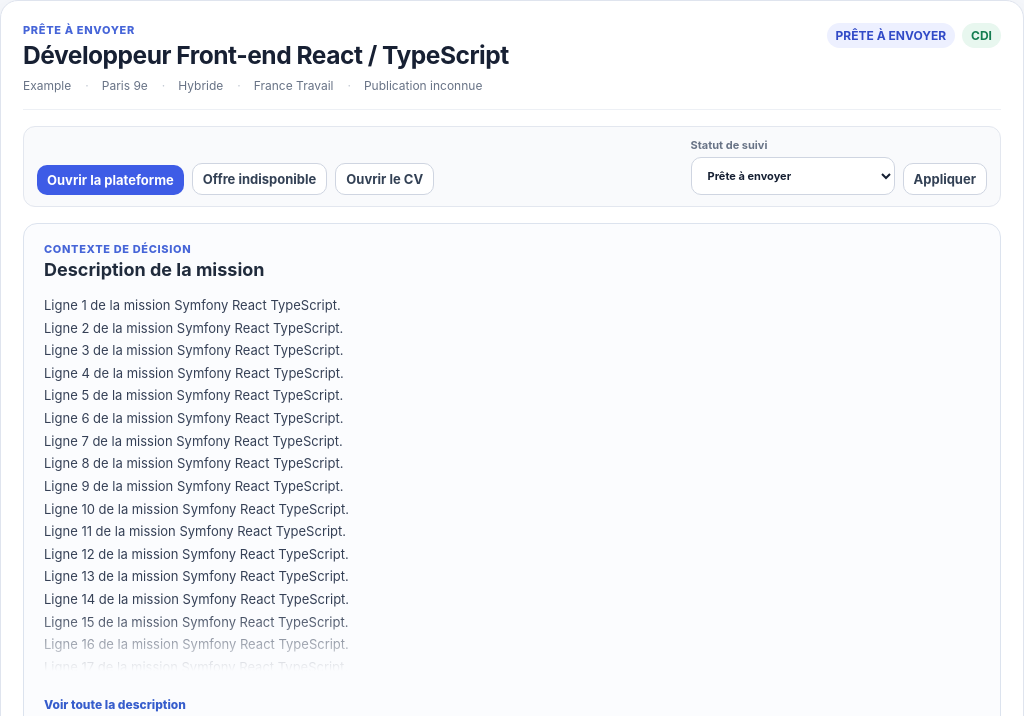
ReviewQueueApplicationCard › keeps a long mission compact until the user expands it
Click the button "Voir toute la description" at (115, 704), box [44,697,186,712]
(page scrolled)
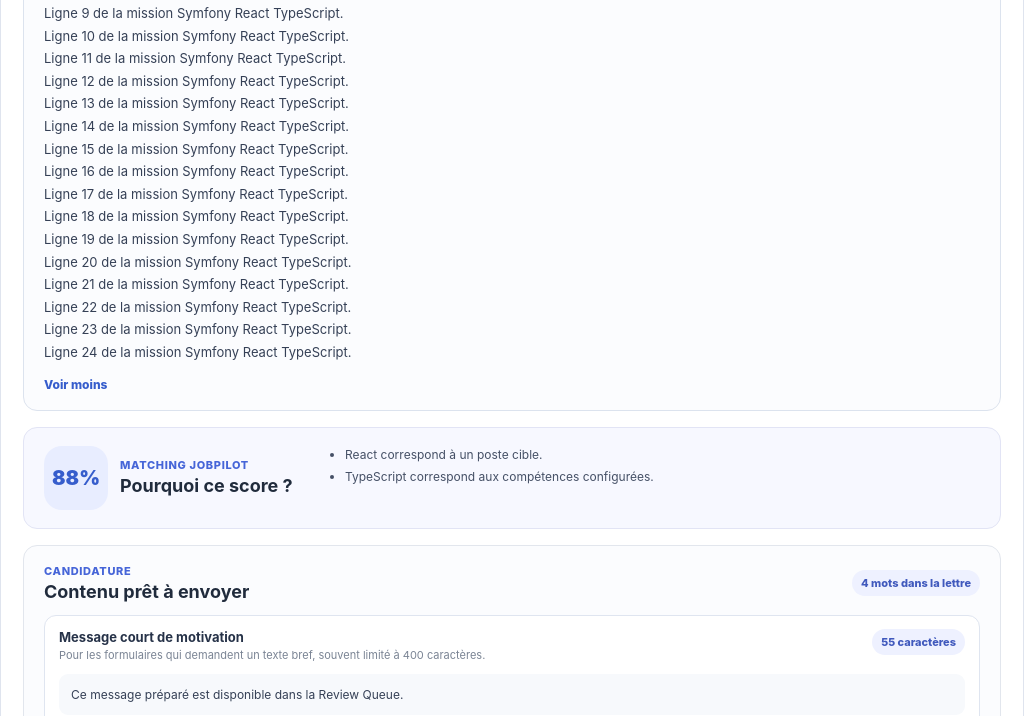
Result: the button "Voir moins" is expanded
Click the button "Voir moins" at (76, 384), box [44,377,107,392]
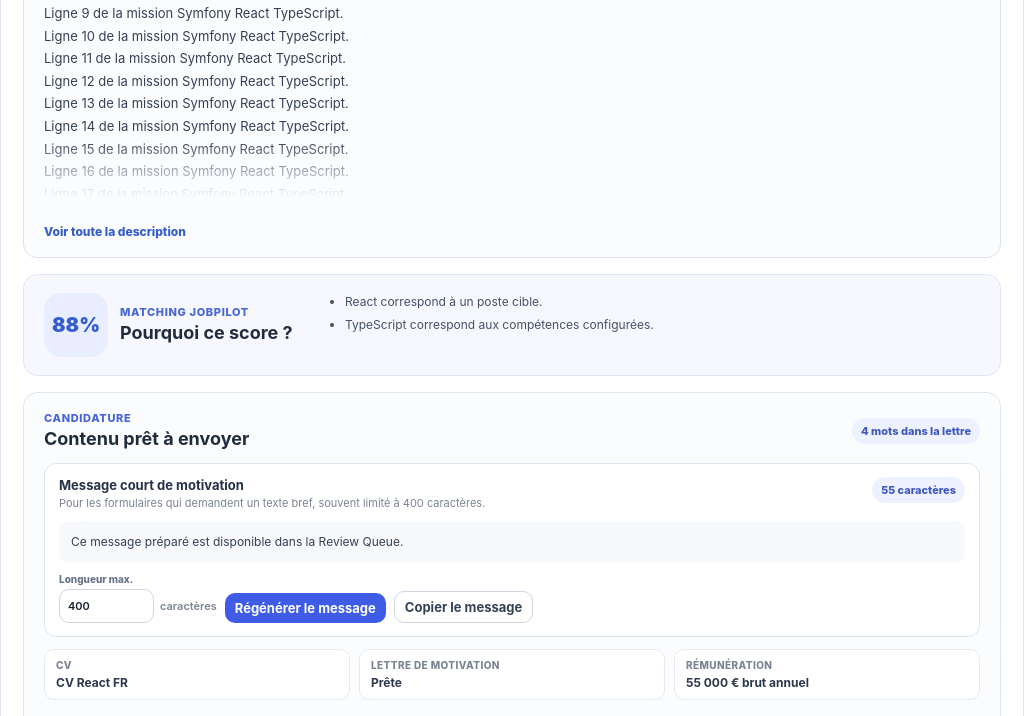
Result: the button "Voir toute la description" is collapsed at [44,224,186,239]
